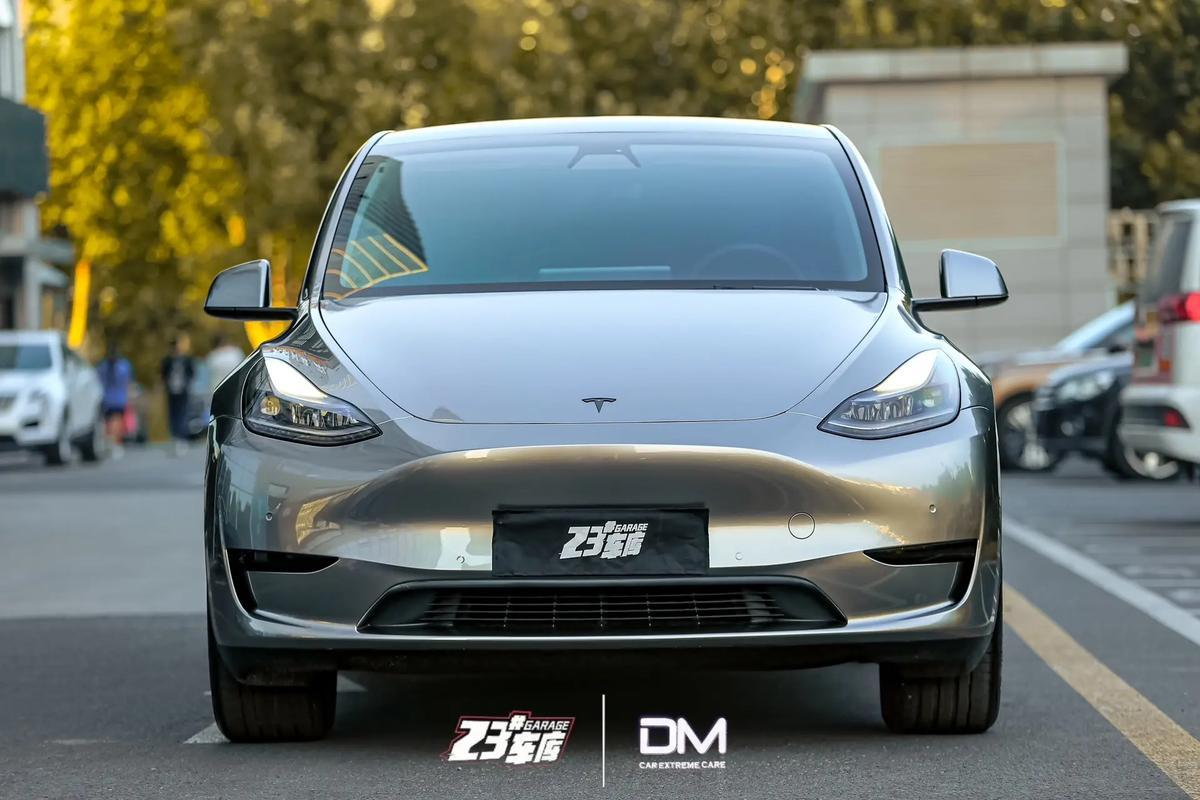Tesla: (579, 396, 618, 415)
